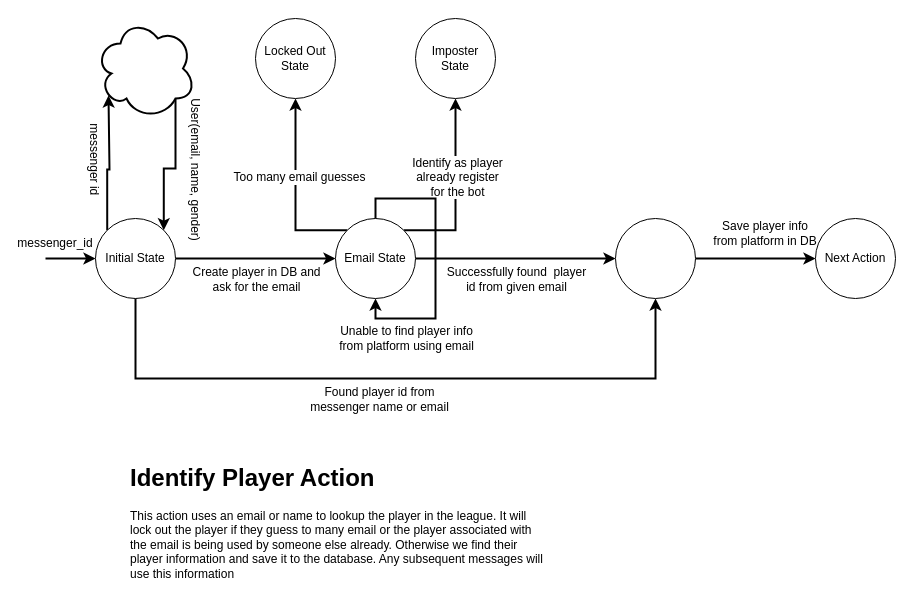
Image size: 913x597. Some labels were removed from this diagram. Each missing label, with the box of its shape:
Messenger API: (94, 17, 196, 119)
Successful: (614, 218, 696, 298)
